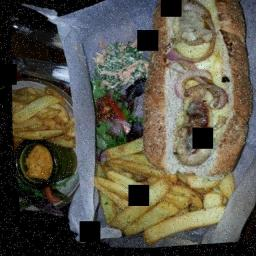hotdog: (169, 104, 211, 176)
